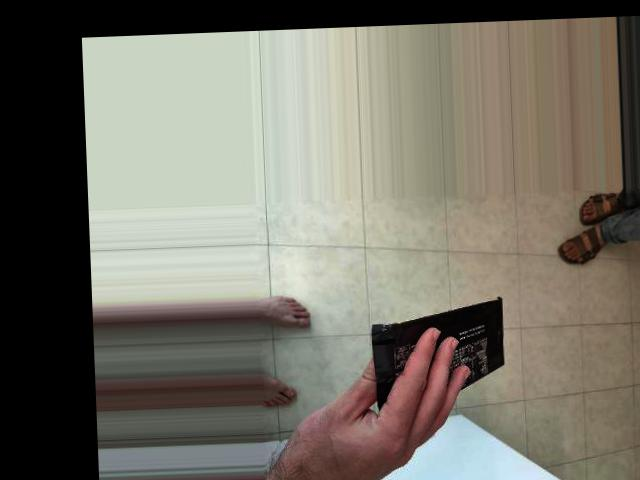chocolate: (422, 188, 551, 344)
